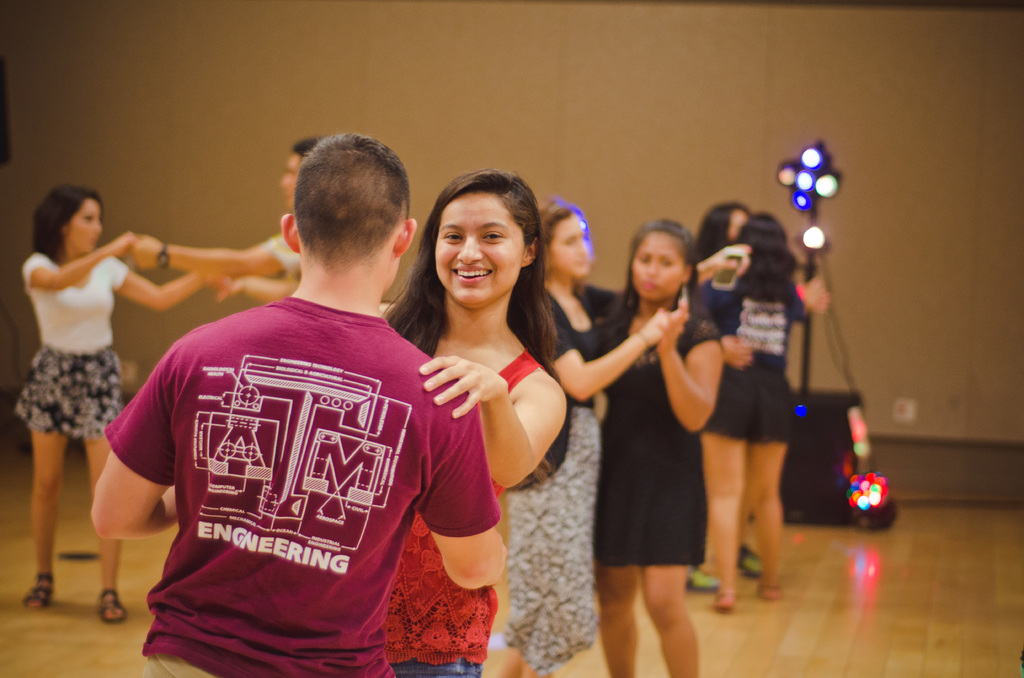person: (123, 133, 332, 317)
